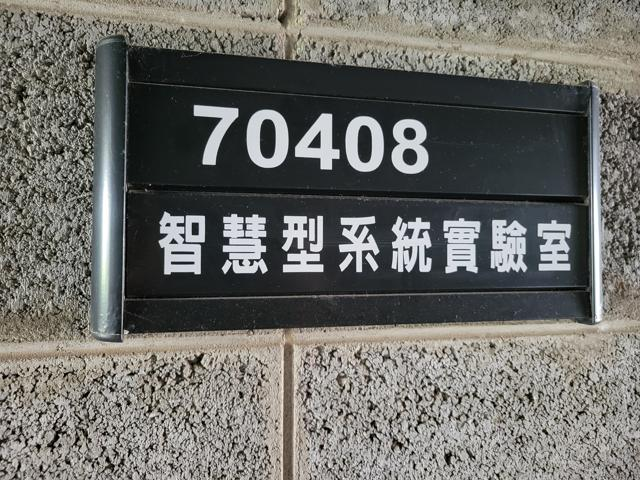doorplate: (86, 31, 614, 344)
